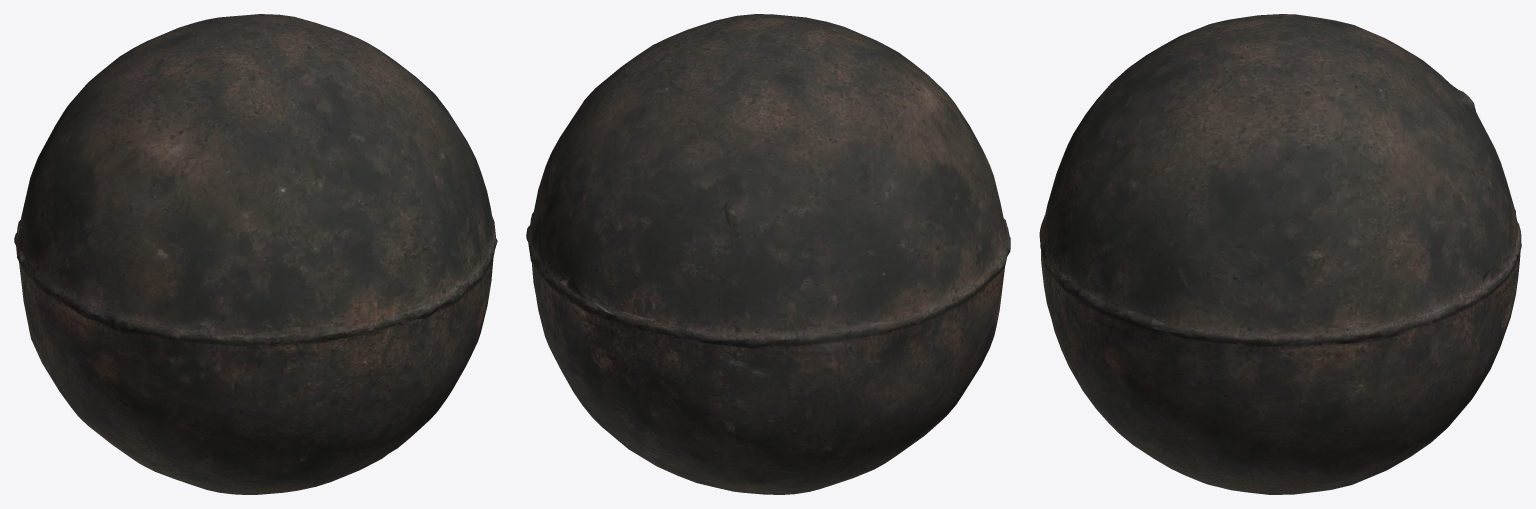
The model's file is dca2d8a4-736e-4e04-ace0-691ae325a730.glb.
The picture shows the model from 3 angles, left to right: view 1: azimuth 30°, elevation 25°; view 2: azimuth 150°, elevation 25°; view 3: azimuth 270°, elevation 25°; orthographic projection.
Parts seen in each view (by area): view 1: Mesh_0.003; view 2: Mesh_0.003; view 3: Mesh_0.003.
Boxes of the visible parts, x1,y1,x2,y2 form: Mesh_0.003: (14,14,497,494); Mesh_0.003: (526,14,1010,494); Mesh_0.003: (1039,14,1521,494).
Size of the model in its own units: 0.25 by 0.25 by 0.2499.
1 material, 1 textured.
